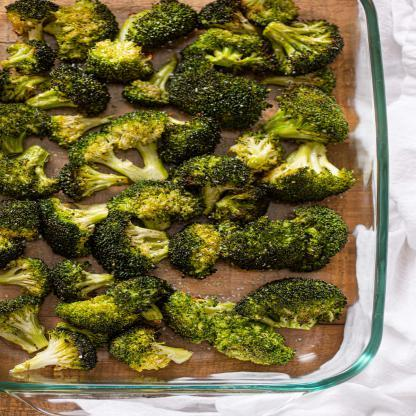broccoli: (1, 0, 362, 375)
